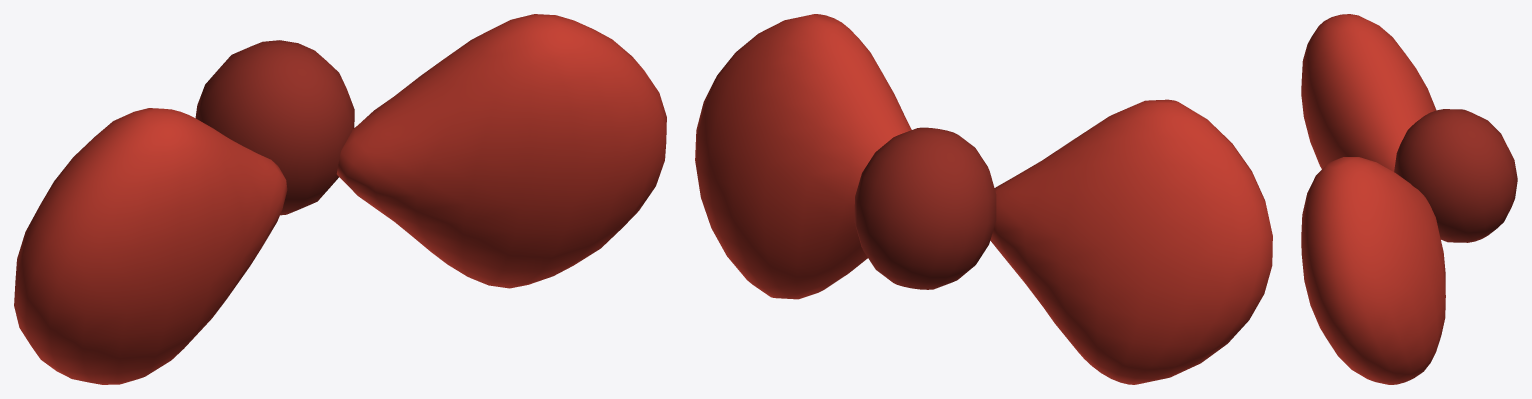
Rendered from noeud_papillon.fbx.
3 renders of one model, left to right at view 1: azimuth 30°, elevation 25°; view 2: azimuth 150°, elevation 25°; view 3: azimuth 270°, elevation 25°, orthographic. The views are drawn at different scales.
Parts seen in each view (by area): view 1: Anim_AileGauche, Anim_AileDroite, Noeud; view 2: Anim_AileDroite, Anim_AileGauche, Noeud; view 3: Anim_AileGauche, Anim_AileDroite, Noeud.
Boxes of the visible parts, <box> form: Anim_AileGauche: <box>336,14,666,288</box>; Anim_AileDroite: <box>14,108,287,384</box>; Noeud: <box>195,40,354,215</box>; Anim_AileDroite: <box>990,99,1272,384</box>; Anim_AileGauche: <box>695,14,911,299</box>; Noeud: <box>854,127,996,289</box>; Anim_AileGauche: <box>1301,157,1445,384</box>; Anim_AileDroite: <box>1301,14,1436,171</box>; Noeud: <box>1394,109,1517,242</box>.
Size of the model in its own units: 0.6356 by 0.2753 by 0.2481.
